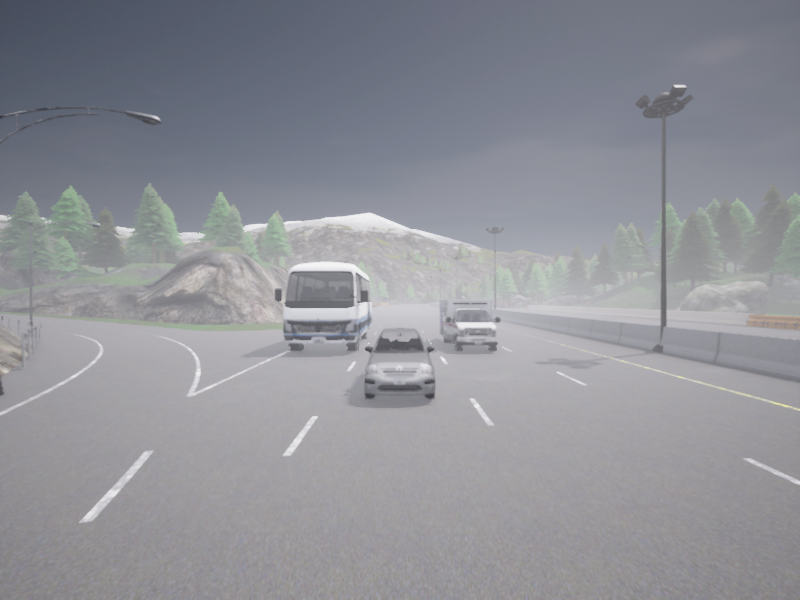vehicle: (275, 262, 371, 351), (364, 327, 435, 398), (439, 300, 500, 351), (457, 296, 464, 299)
